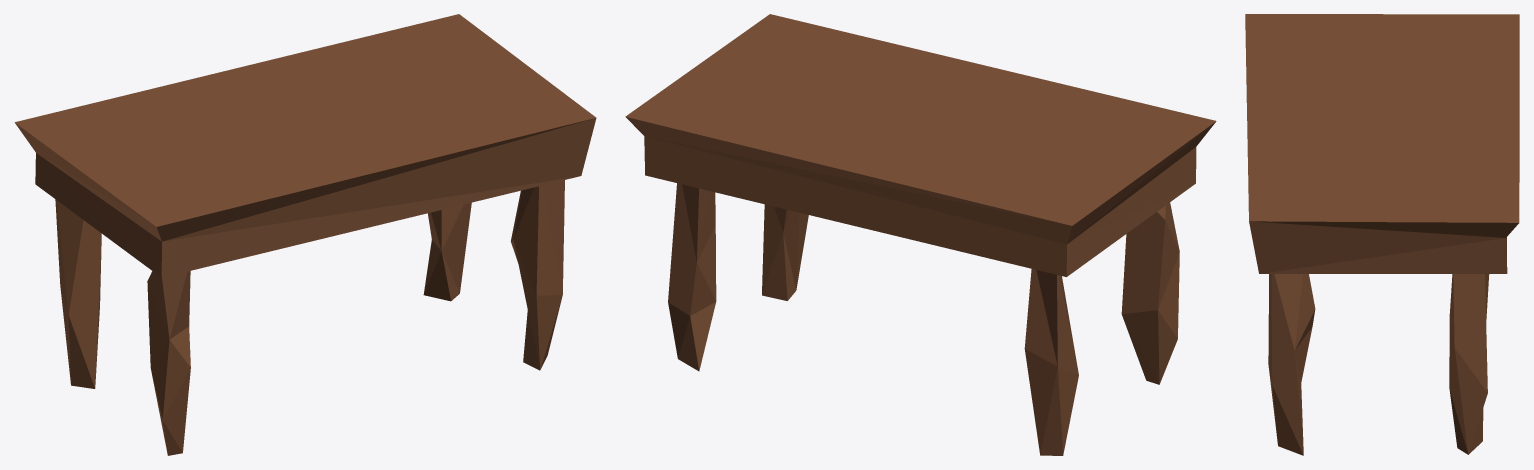
The model's file is Table.fbx.
The picture shows the model from 3 angles, left to right: view 1: azimuth 30°, elevation 25°; view 2: azimuth 150°, elevation 25°; view 3: azimuth 270°, elevation 25°; orthographic projection. The views are drawn at different scales.
Parts seen in each view (by area): view 1: Cube; view 2: Cube; view 3: Cube.
Part boxes in pixels (<box>): Cube: <box>14,14,596,455</box>; Cube: <box>625,14,1216,455</box>; Cube: <box>1245,14,1519,455</box>.
Bounding box in the file's own units: 143 × 78.06 × 79.56.
